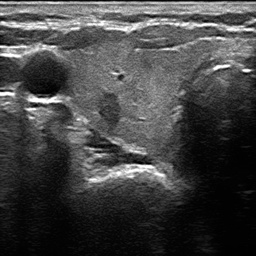mass: (98, 92, 121, 130)
